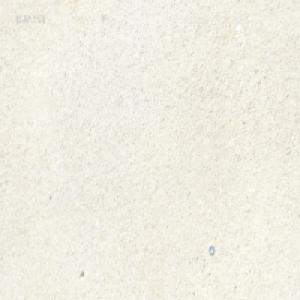Washer: (208, 244, 214, 255)
